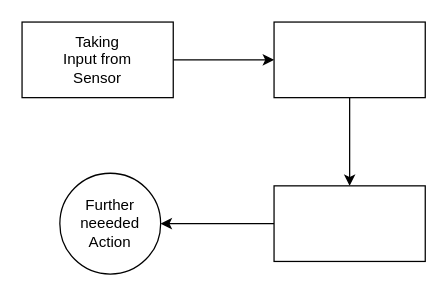
This 447x296 diagram has some shape labels left out. The shapes that lost their labels are listed below. From the top down, each one's centre as x and y in pixels, then its label:
point 349,59: Microcontrol processior
point 349,223: Takeover Control
